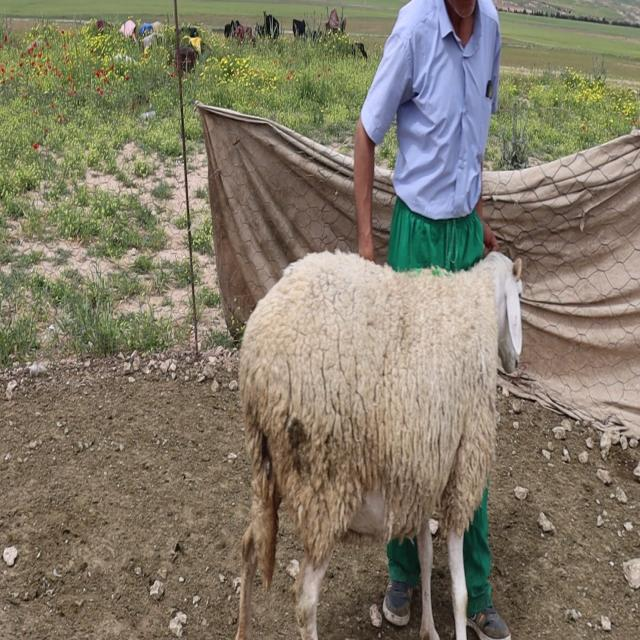Score_5: (236, 251, 522, 639)
